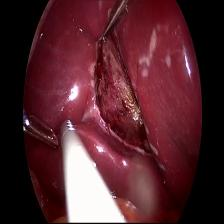Bipolar: (22, 109, 60, 157)
Grasper: (96, 0, 140, 53)
Irrigator: (59, 109, 86, 164)
